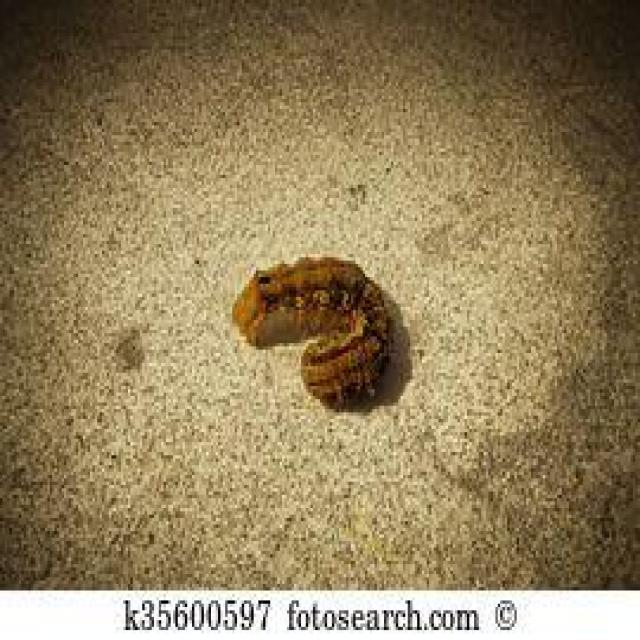BeetArmyWorm-Larva-: (229, 251, 411, 413)
